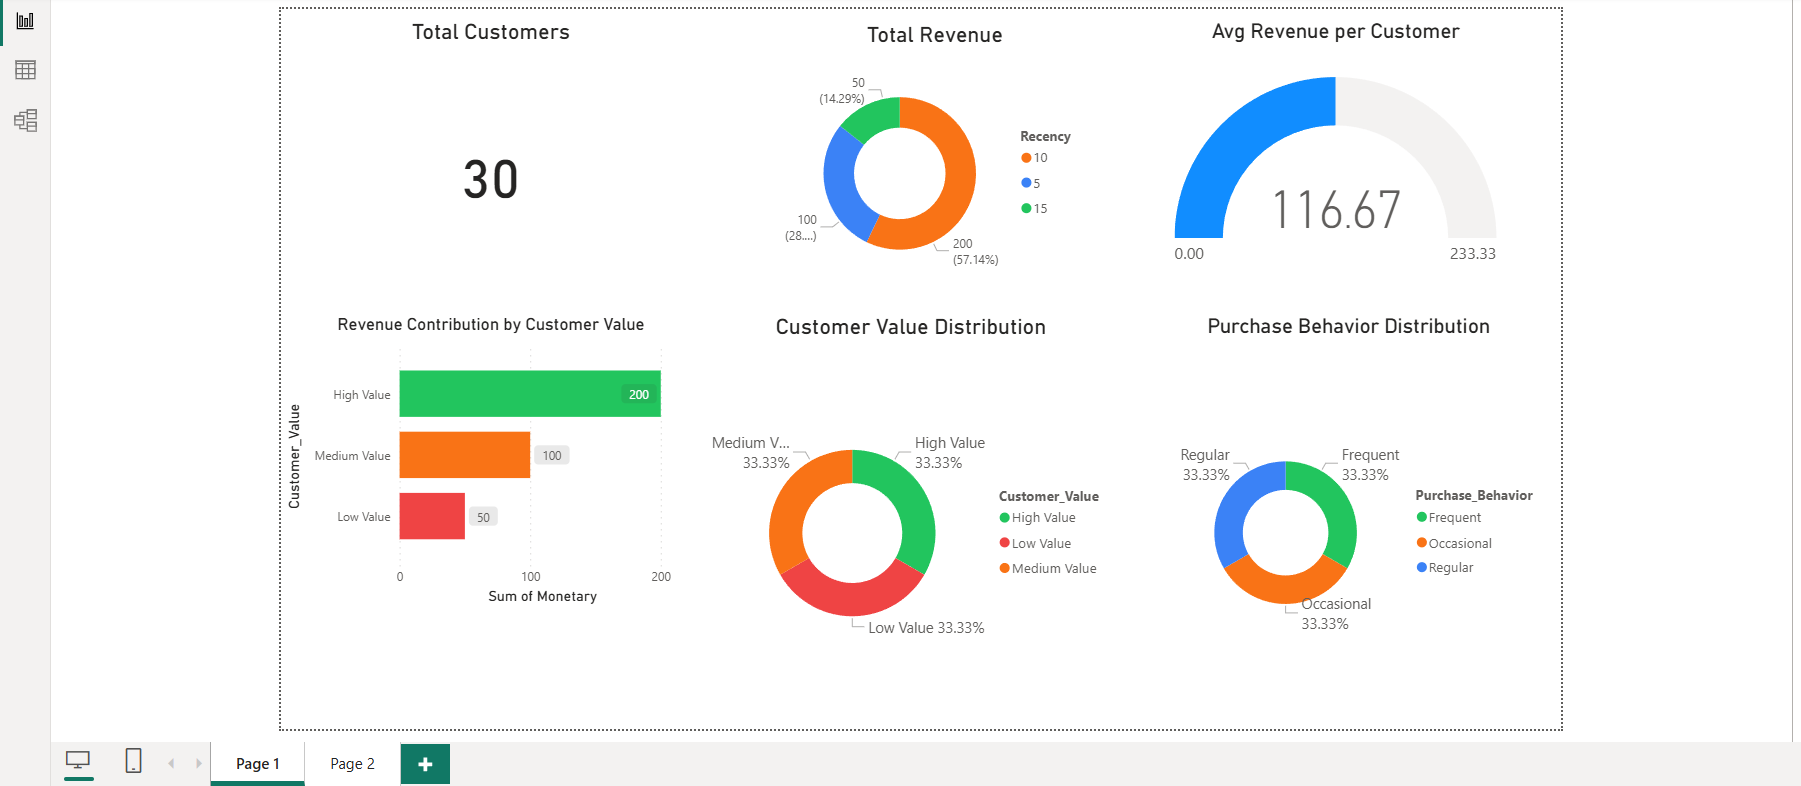

The dashboard page shown, as its layout file describes it:
{"tool":"powerbi","page":{"name":"Page 1","canvas":[1280,720],"ordinal":0},"visuals":[{"type":"donutChart","title":"Customer Value Distribution","fields":{"Category":["Consumer360_RFM_Final (2).Customer_Value"],"Y":["Count(Consumer360_RFM_Final (2).customer_id)"]},"box":[420,304.8,420,414.6],"z":0},{"type":"clusteredBarChart","title":"Revenue Contribution by Customer Value","fields":{"Category":["Consumer360_RFM_Final (2).Customer_Value"],"Y":["Sum(Consumer360_RFM_Final (2).Monetary)"]},"box":[0,304.8,420,295.3],"z":1000},{"type":"donutChart","title":"Purchase Behavior Distribution","fields":{"Category":["Consumer360_RFM_Final (2).Purchase_Behavior"],"Y":["Count(Consumer360_RFM_Final (2).customer_id)"]},"box":[869.8,304.8,395.6,414.6],"z":2000},{"type":"donutChart","title":"Total Revenue","fields":{"Y":["Sum(Consumer360_RFM_Final (2).Monetary)"],"Category":["Consumer360_RFM_Final (2).Recency"]},"box":[493.2,9.5,322.4,281.8],"z":3000},{"type":"gauge","title":"Avg Revenue per Customer","fields":{"Y":["Avg(Consumer360_RFM_Final (2).Monetary)"]},"box":[888.7,9.5,331.9,285.9],"z":4000},{"type":"card","title":"Total Customers","fields":{"Values":["Sum(Consumer360_RFM_Final (2).Recency)"]},"box":[0,9.5,420,282],"z":5000}]}

Visuals, with their boxes on the page's 1280x720 design canvas (x1, y1, x2, y2). These are canvas units, not pixel positions in the 1801x786 screenshot, which may show the page scaled, cropped or inside an application window:
"Customer Value Distribution" donutChart: box=[420, 305, 840, 719]
"Revenue Contribution by Customer Value" clusteredBarChart: box=[0, 305, 420, 600]
"Purchase Behavior Distribution" donutChart: box=[870, 305, 1265, 719]
"Total Revenue" donutChart: box=[493, 10, 816, 291]
"Avg Revenue per Customer" gauge: box=[889, 10, 1221, 295]
"Total Customers" card: box=[0, 10, 420, 292]
